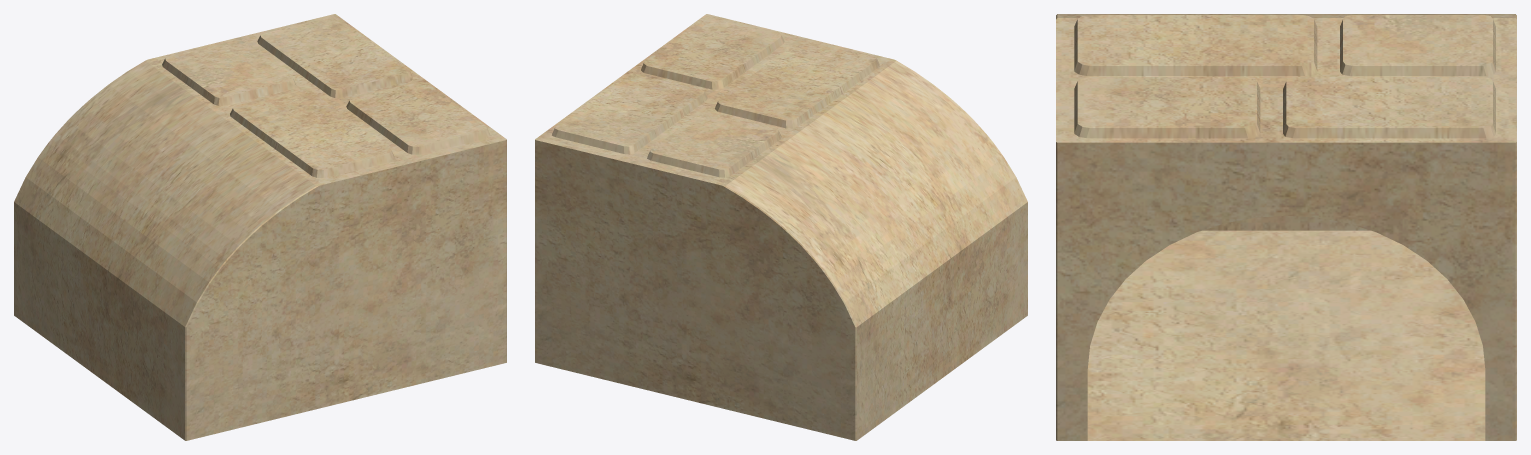
Rendered from thm_tato_cantina_r11_office_mesh_r11.fbx.
The picture shows the model from 3 angles, left to right: view 1: azimuth 30°, elevation 25°; view 2: azimuth 150°, elevation 25°; view 3: azimuth 270°, elevation 25°; orthographic projection. The views are drawn at different scales.
Parts seen in each view (by area): view 1: mesh_node; view 2: mesh_node; view 3: mesh_node.
Part boxes in pixels (x1,y1,x2,y2): mesh_node: (14,14,506,440); mesh_node: (535,14,1027,440); mesh_node: (1056,14,1516,440).
Size of the model in its own units: 7.56 by 5.15 by 7.
2 materials, 2 textured.
